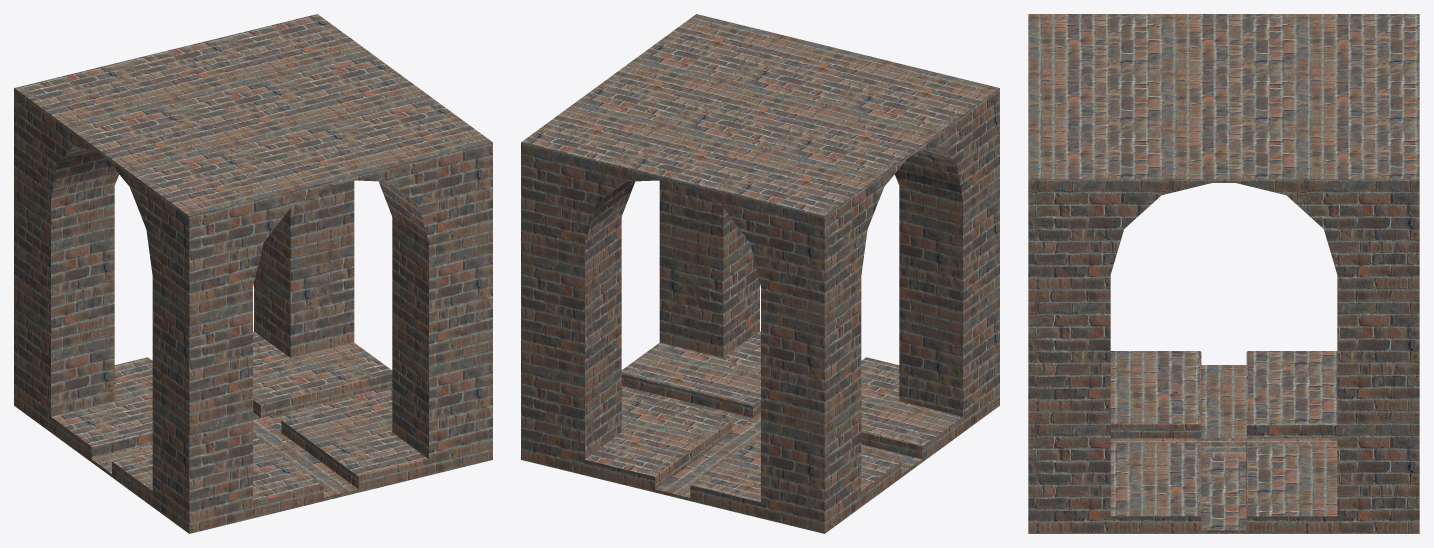
File: Tunnel_Cross.fbx
The picture shows the model from 3 angles, left to right: view 1: azimuth 30°, elevation 25°; view 2: azimuth 150°, elevation 25°; view 3: azimuth 270°, elevation 25°; orthographic projection. The views are drawn at different scales.
Visible parts, largest first — view 1: Tunnel_Cross; view 2: Tunnel_Cross; view 3: Tunnel_Cross.
Boxes of the visible parts, x1,y1,x2,y2 form: Tunnel_Cross: [14, 14, 492, 533]; Tunnel_Cross: [521, 14, 999, 533]; Tunnel_Cross: [1028, 14, 1419, 533].
Size of the model in its own units: 5 by 5 by 5.
